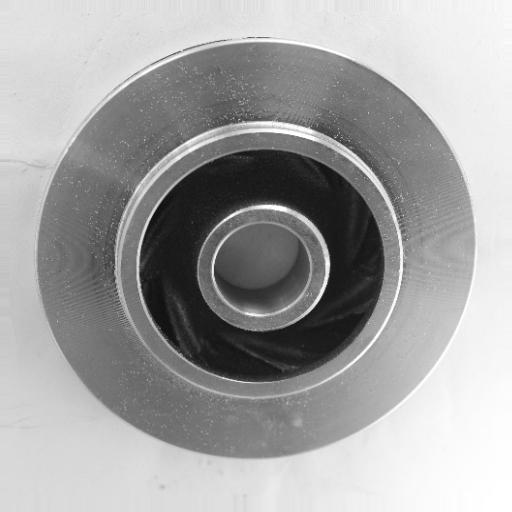polished_casting: (34, 38, 480, 463)
